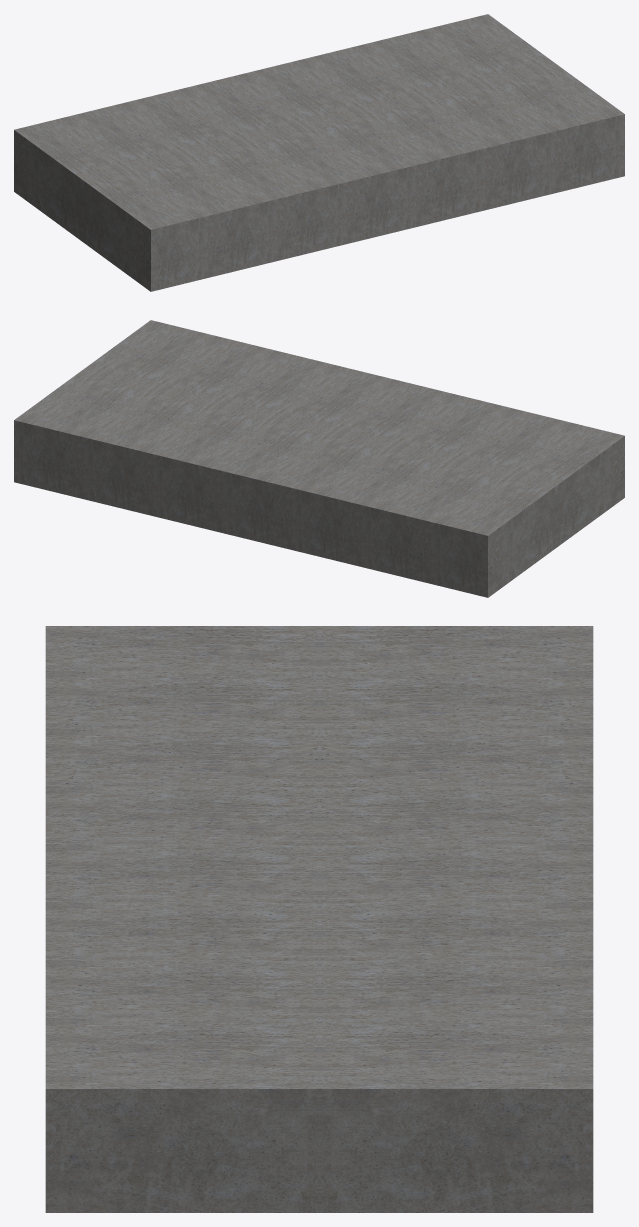
The model's file is ConcreteFloor_2.fbx.
3 views of the same model, one above another, from view 1: azimuth 30°, elevation 25°; view 2: azimuth 150°, elevation 25°; view 3: azimuth 270°, elevation 25° (orthographic). The views are drawn at different scales.
Parts seen in each view (by area): view 1: ConcreteFloor_2; view 2: ConcreteFloor_2; view 3: ConcreteFloor_2.
Boxes of the visible parts, x1=… form: ConcreteFloor_2: x1=14, y1=14, x2=624, y2=291; ConcreteFloor_2: x1=14, y1=320, x2=624, y2=597; ConcreteFloor_2: x1=45, y1=626, x2=593, y2=1212.
Size of the model in its own units: 8 by 1 by 4.
